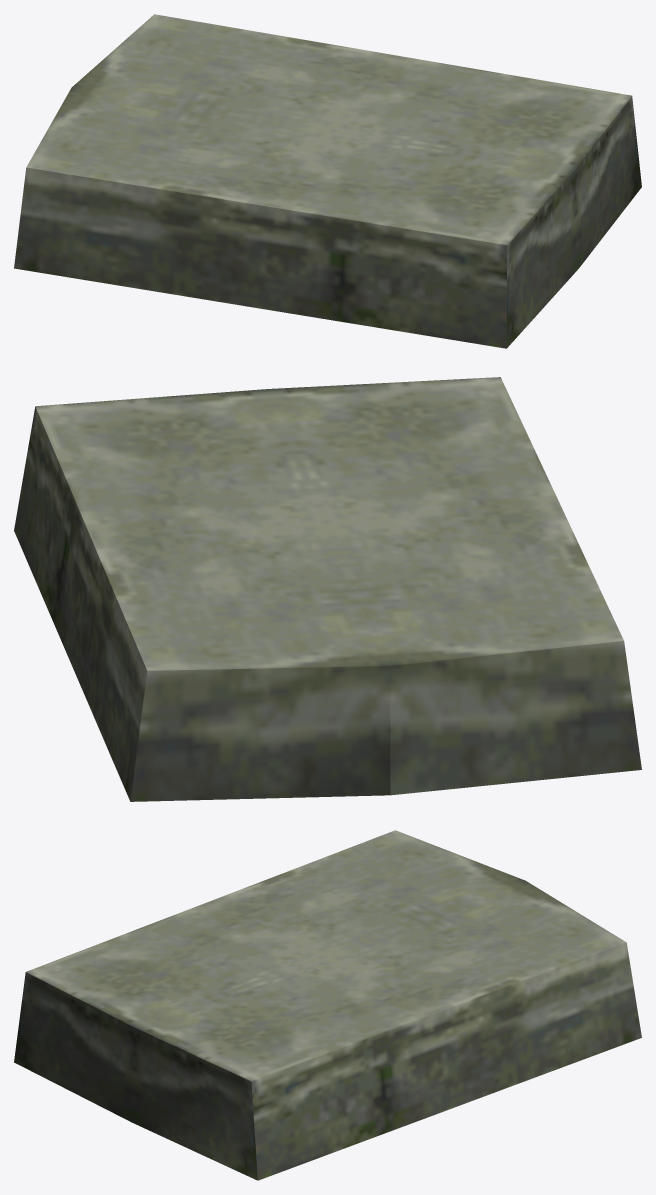
Rendered from xsz_cuishi_4.FBX.
3 views of the same model, one above another, from view 1: azimuth 30°, elevation 25°; view 2: azimuth 150°, elevation 25°; view 3: azimuth 270°, elevation 25° (orthographic). The views are drawn at different scales.
Visible parts, largest first — view 1: xsz_cuishi_4; view 2: xsz_cuishi_4; view 3: xsz_cuishi_4.
Boxes of the visible parts, x1,y1,x2,y2 form: xsz_cuishi_4: (14, 14, 641, 348); xsz_cuishi_4: (14, 377, 641, 801); xsz_cuishi_4: (14, 830, 641, 1180).
Bounding box in the file's own units: 6.84 × 6.96 × 1.28.
